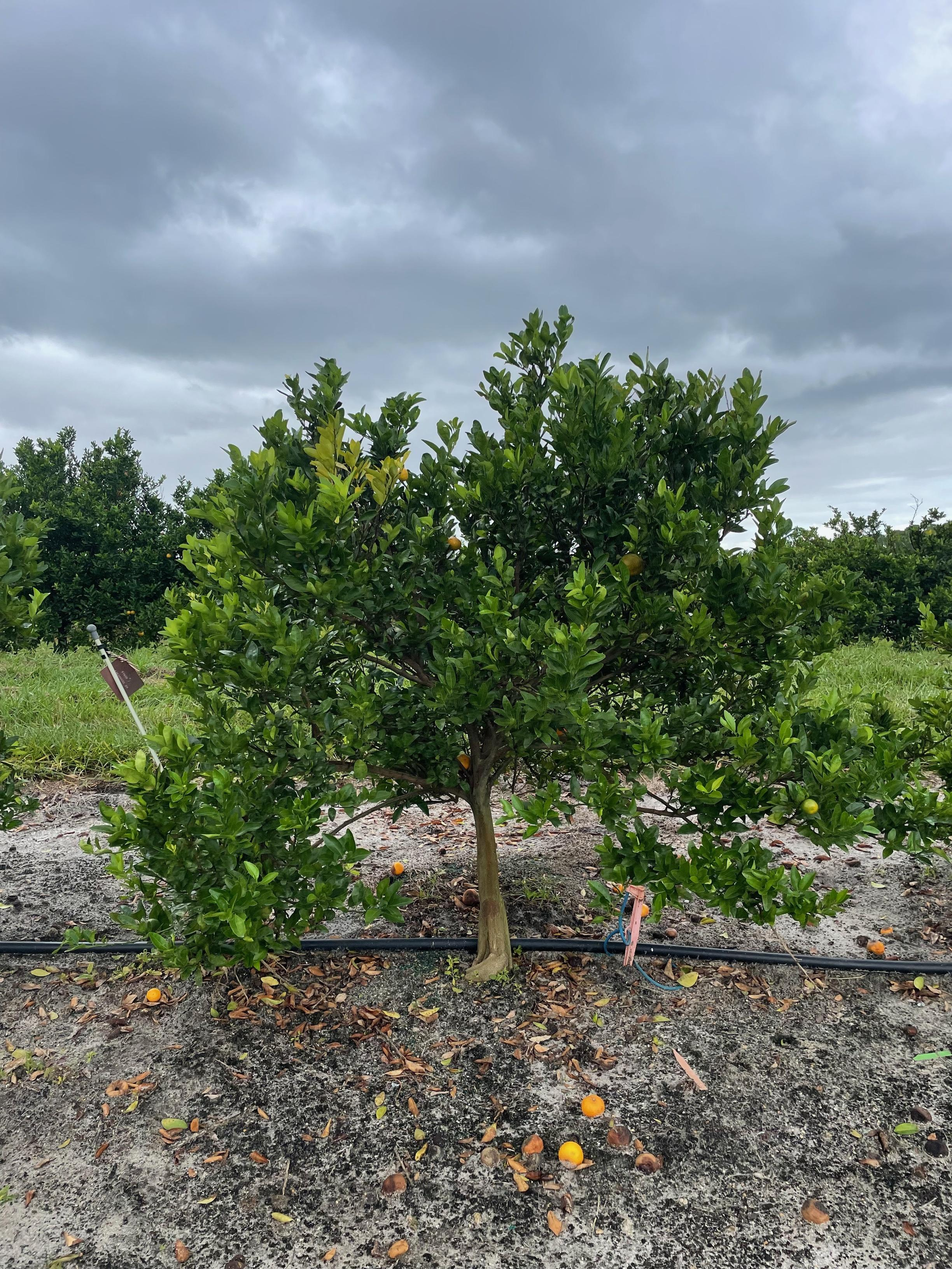fruit_on_ground: (618, 551, 645, 578), (555, 721, 576, 743), (452, 753, 472, 773), (799, 797, 820, 816), (534, 544, 553, 562), (445, 535, 462, 552), (395, 467, 410, 482), (138, 630, 145, 637), (166, 553, 172, 559), (126, 610, 132, 616), (131, 610, 136, 616)
fruit_on_tree: (556, 1138, 584, 1167), (579, 1091, 607, 1119), (634, 1150, 664, 1175), (605, 1125, 635, 1149), (382, 1170, 408, 1196), (521, 1133, 545, 1157), (459, 886, 480, 907), (144, 984, 163, 1004), (632, 900, 652, 919), (865, 938, 886, 956), (389, 859, 407, 877), (877, 922, 894, 937), (663, 924, 679, 939), (611, 882, 626, 894)
